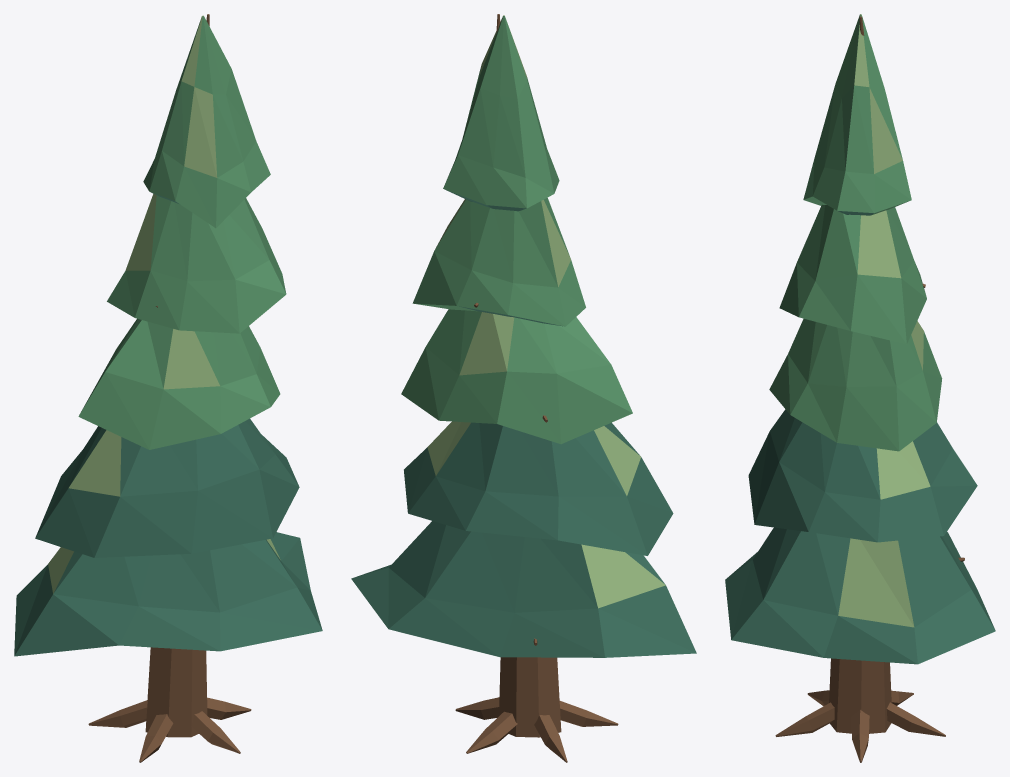
File: tree_cypress_spire.glb
3 renders of one model, left to right at view 1: azimuth 30°, elevation 25°; view 2: azimuth 150°, elevation 25°; view 3: azimuth 270°, elevation 25°, orthographic. The views are drawn at different scales.
Parts seen in each view (by area): view 1: tree_cypress_spire / mesh; view 2: tree_cypress_spire / mesh; view 3: tree_cypress_spire / mesh.
Part boxes in pixels (x1,y1,x2,y2): tree_cypress_spire / mesh: (14, 14, 322, 762); tree_cypress_spire / mesh: (351, 14, 696, 762); tree_cypress_spire / mesh: (725, 14, 995, 762).
Size of the model in its own units: 6.91 by 14.81 by 5.
